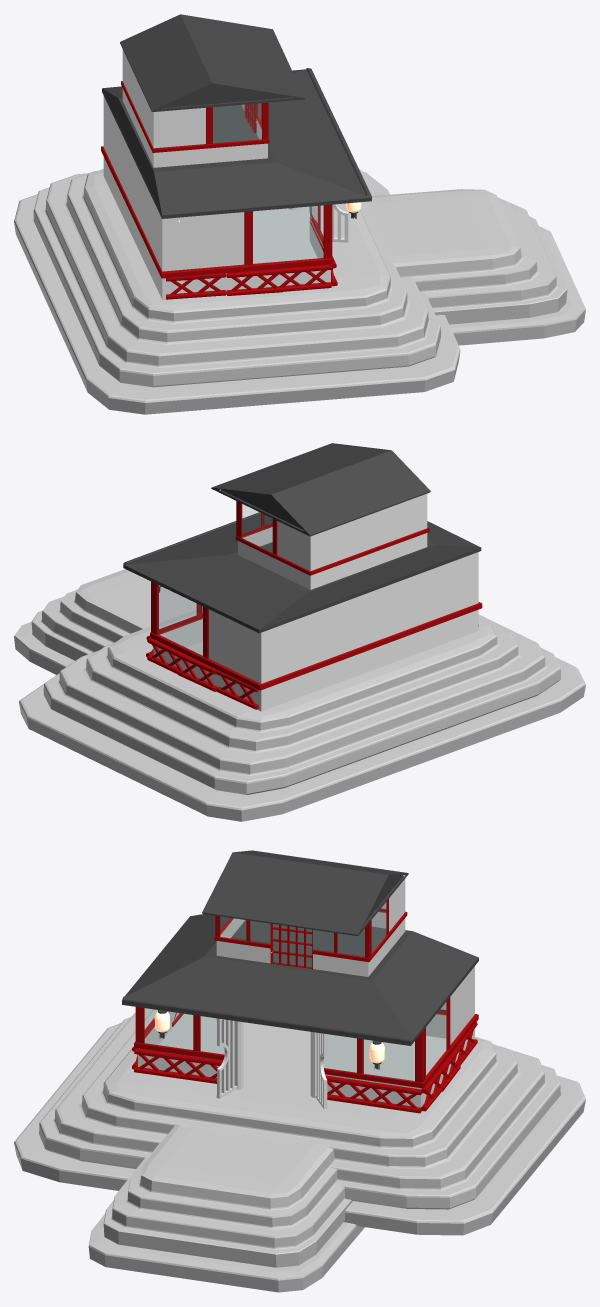
File: h_palace_test.gltf
3 views of the same model, one above another, from view 1: azimuth 30°, elevation 25°; view 2: azimuth 150°, elevation 25°; view 3: azimuth 270°, elevation 25° (orthographic). The views are drawn at different scales.
Parts seen in each view (by area): view 1: Cube, uploads_files_3282234_JapaneseVillage.001, uploads_files_3282234_JapaneseVillage.027, uploads_files_3282234_JapaneseVillage.039, uploads_files_3282234_JapaneseVillage.026, uploads_files_3282234_JapaneseVillage.015; view 2: Cube, uploads_files_3282234_JapaneseVillage.001, uploads_files_3282234_JapaneseVillage.027, uploads_files_3282234_JapaneseVillage.039, uploads_files_3282234_JapaneseVillage.026; view 3: Cube, uploads_files_3282234_JapaneseVillage.001, uploads_files_3282234_JapaneseVillage.025, uploads_files_3282234_JapaneseVillage.015, uploads_files_3282234_JapaneseVillage.023, uploads_files_3282234_JapaneseVillage.016.
Part boxes in pixels (left/top/right/bottom): Cube: left=14, top=169, right=585, bottom=414; uploads_files_3282234_JapaneseVillage.001: left=101, top=14, right=371, bottom=300; uploads_files_3282234_JapaneseVillage.027: left=226, top=269, right=283, bottom=295; uploads_files_3282234_JapaneseVillage.039: left=166, top=273, right=226, bottom=299; uploads_files_3282234_JapaneseVillage.026: left=275, top=264, right=331, bottom=291; uploads_files_3282234_JapaneseVillage.015: left=310, top=204, right=348, bottom=242; Cube: left=14, top=569, right=585, bottom=821; uploads_files_3282234_JapaneseVillage.001: left=123, top=443, right=482, bottom=711; uploads_files_3282234_JapaneseVillage.027: left=177, top=654, right=218, bottom=691; uploads_files_3282234_JapaneseVillage.039: left=216, top=625, right=478, bottom=709; uploads_files_3282234_JapaneseVillage.026: left=147, top=638, right=185, bottom=673; Cube: left=14, top=1008, right=585, bottom=1292; uploads_files_3282234_JapaneseVillage.001: left=122, top=850, right=478, bottom=1107; uploads_files_3282234_JapaneseVillage.025: left=134, top=1048, right=422, bottom=1113; uploads_files_3282234_JapaneseVillage.015: left=216, top=1018, right=243, bottom=1098; uploads_files_3282234_JapaneseVillage.023: left=181, top=1055, right=374, bottom=1105; uploads_files_3282234_JapaneseVillage.016: left=310, top=1032, right=327, bottom=1109.
Size of the model in its own units: 60.73 by 30.14 by 58.85.
